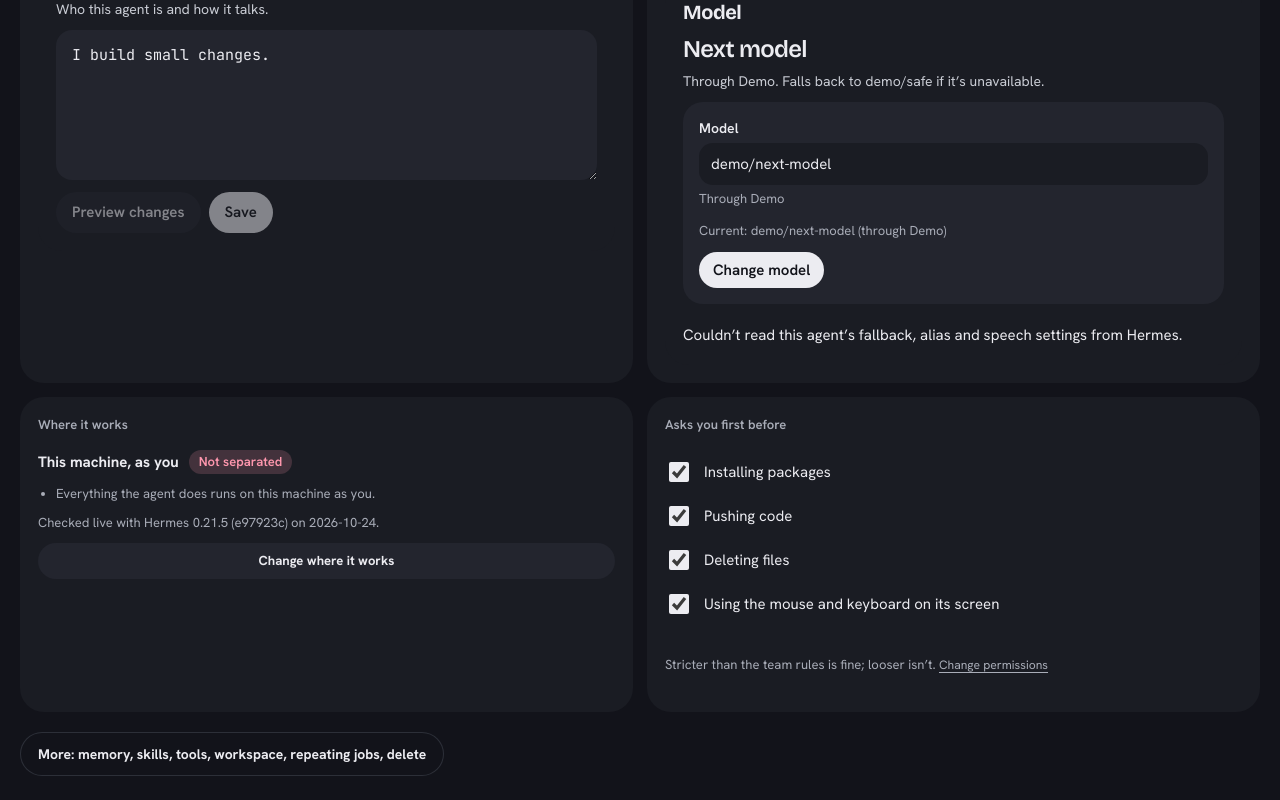
Test case: the agent page puts the four cards first and the compact More cards under the toggle
(page scrolled)
Expected: the text box named "SOUL.md contents" is shown, [56,30,597,180]
Expected: the text "Next model" is shown, [683,35,807,63]
Click the button "More: memory": click(232, 754) [20,732,444,776]
(page scrolled)
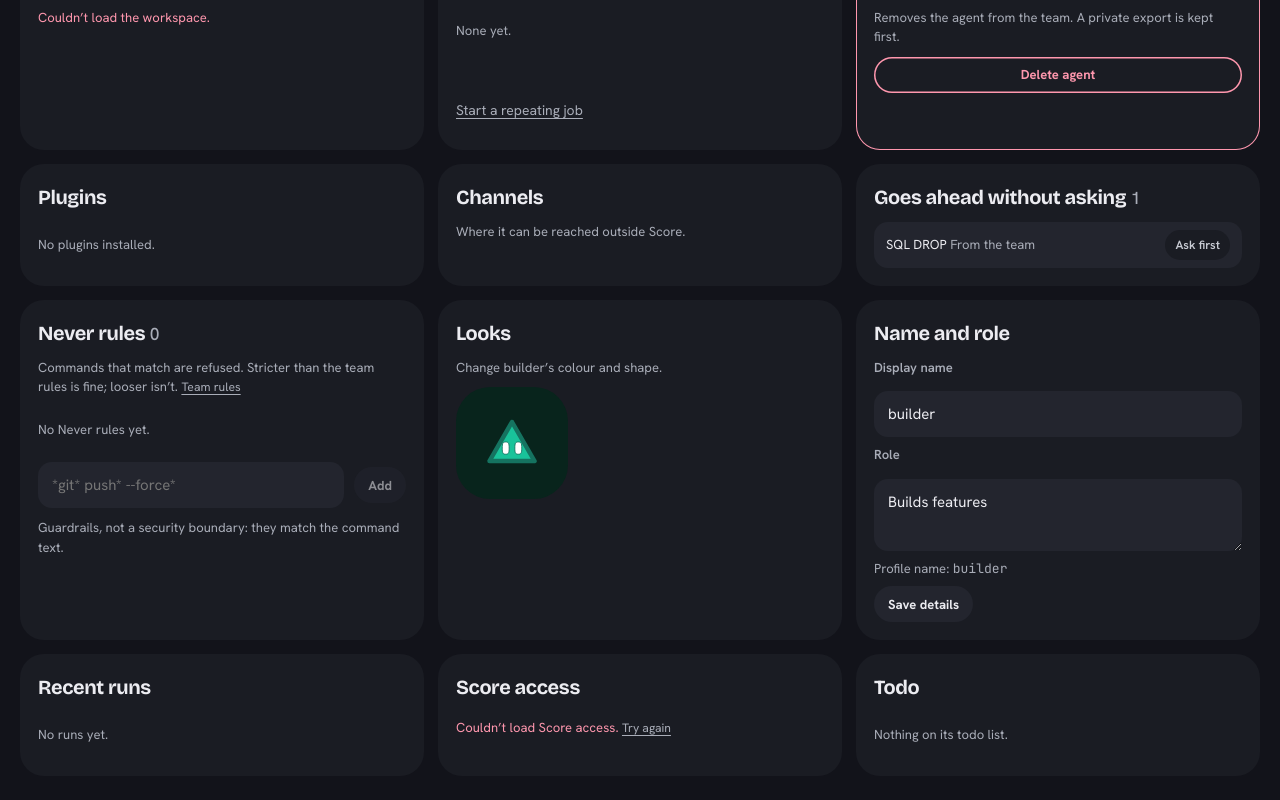
Now the text "Nothing on its todo list." is shown, box [874,726,1008,743]
